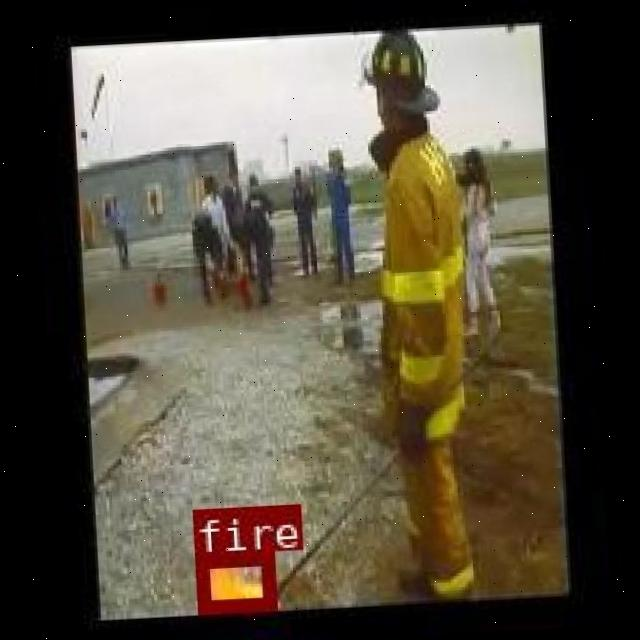fire: (194, 550, 275, 611)
